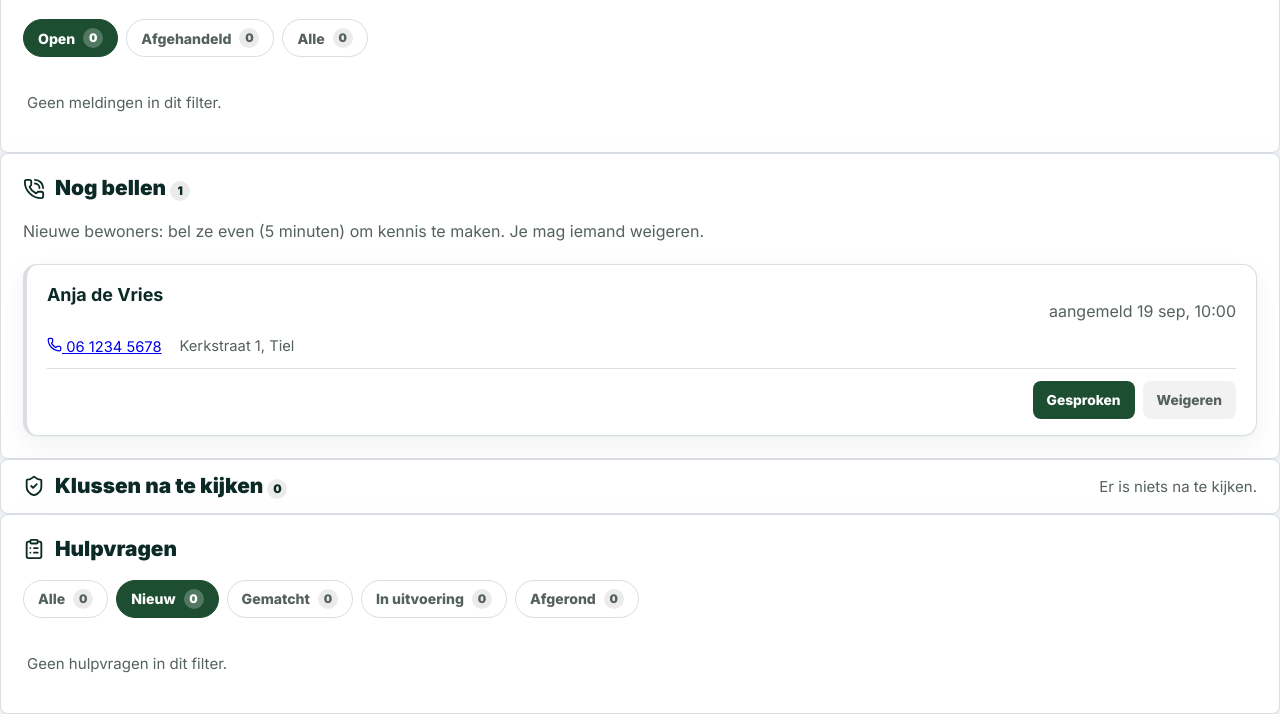
B11 meldkamer: nog bellen › toont nieuwe bewoners met een bel-link en vinkt "gesproken" af
(page scrolled)
Click the button "Gesproken" at (1084, 400), box [1032,381,1134,419]
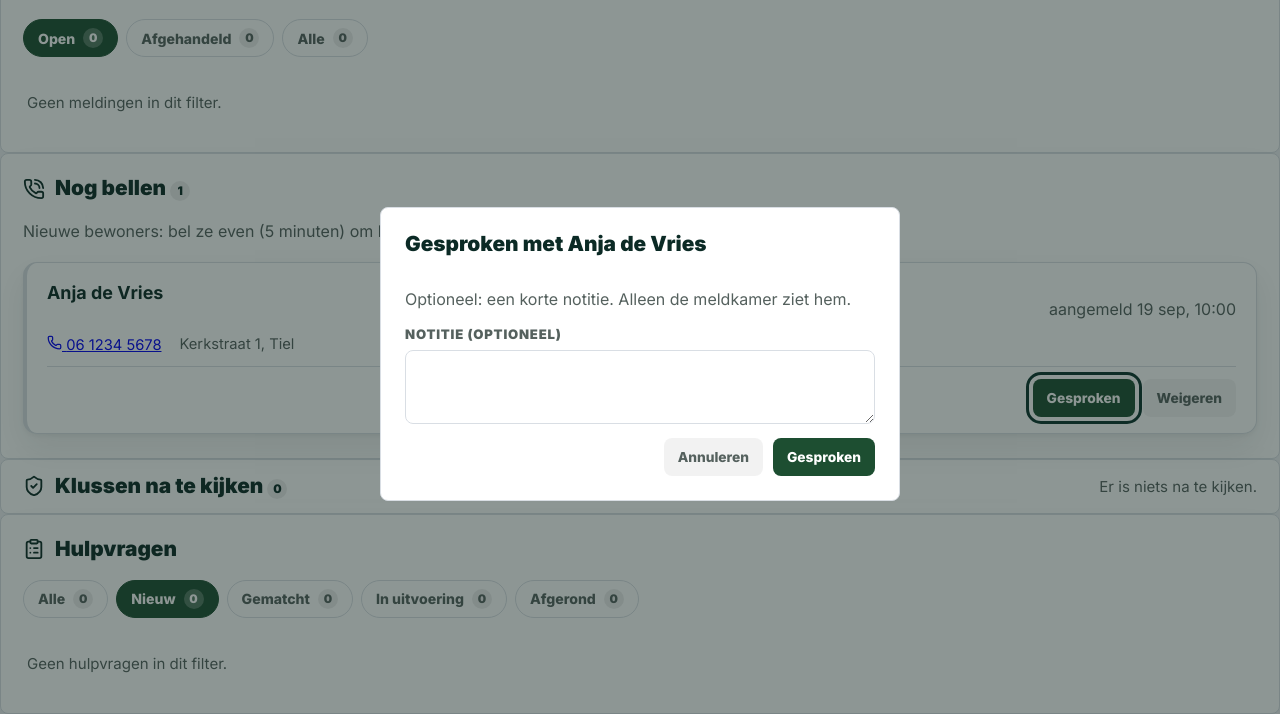
Type "Aardig" into the text box labelled "Notitie (optioneel)" at (640, 387), box [405,350,875,424]
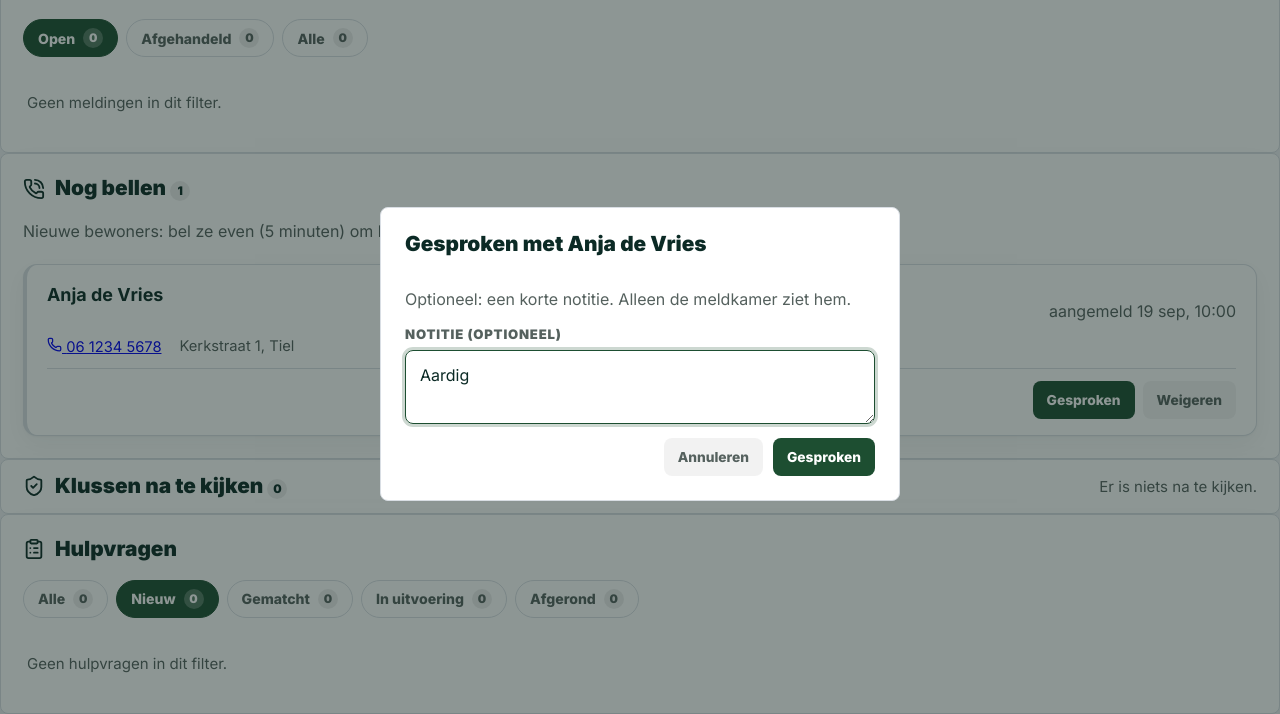
Click the button "Gesproken" at (824, 457), box [773,438,875,476]
(page scrolled)
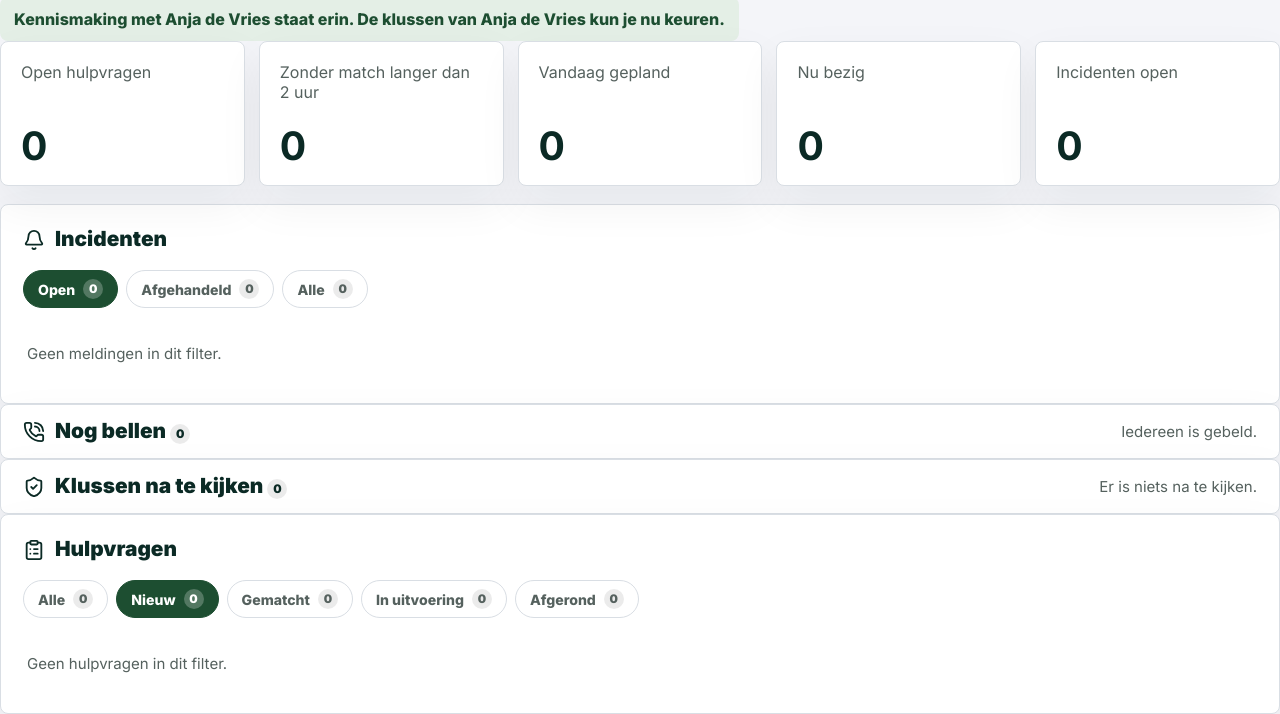
expect the text "Kennismaking met Anja de Vries staat erin" is shown: met, box [14,9,725,29]
expect the text "Iedereen is gebeld." is shown: met, box [1121,422,1257,441]
